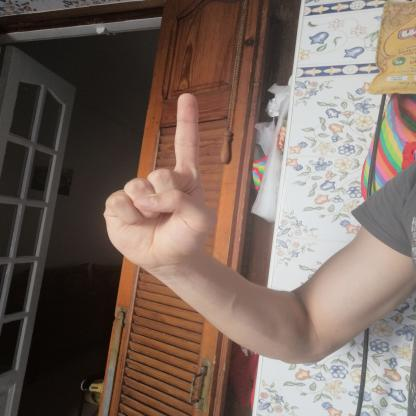BAA: (87, 84, 230, 288)
